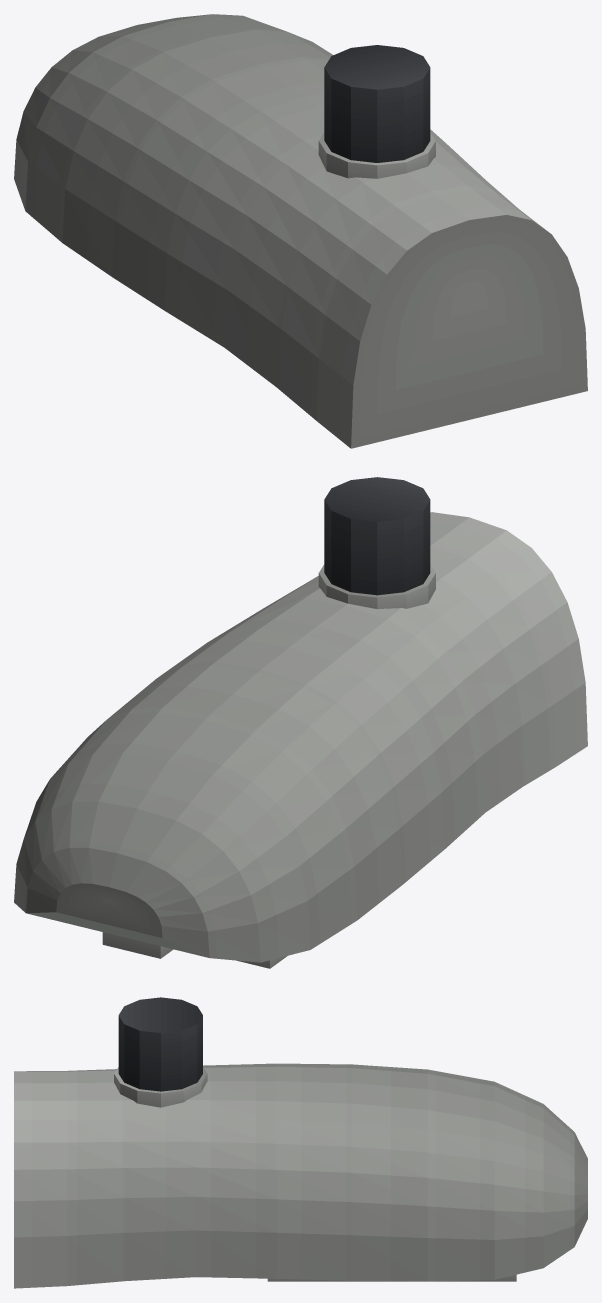
Rendered from streetlight_gem250acu.obj.
3 views of the same model, one above another, from view 1: azimuth 30°, elevation 25°; view 2: azimuth 150°, elevation 25°; view 3: azimuth 270°, elevation 25° (orthographic). The views are drawn at different scales.
Parts seen in each view (by area): view 1: fixture; view 2: fixture; view 3: fixture.
Boxes of the visible parts, x1,y1,x2,y2 form: fixture: (14,14,587,448); fixture: (14,477,587,968); fixture: (14,997,587,1288).
Bounding box in the file's own units: 0.3813 × 0.3522 × 0.8062.
